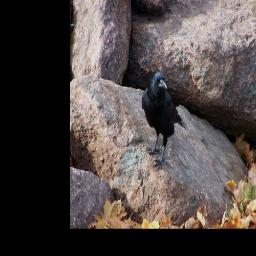Crow: (141, 67, 191, 171)
